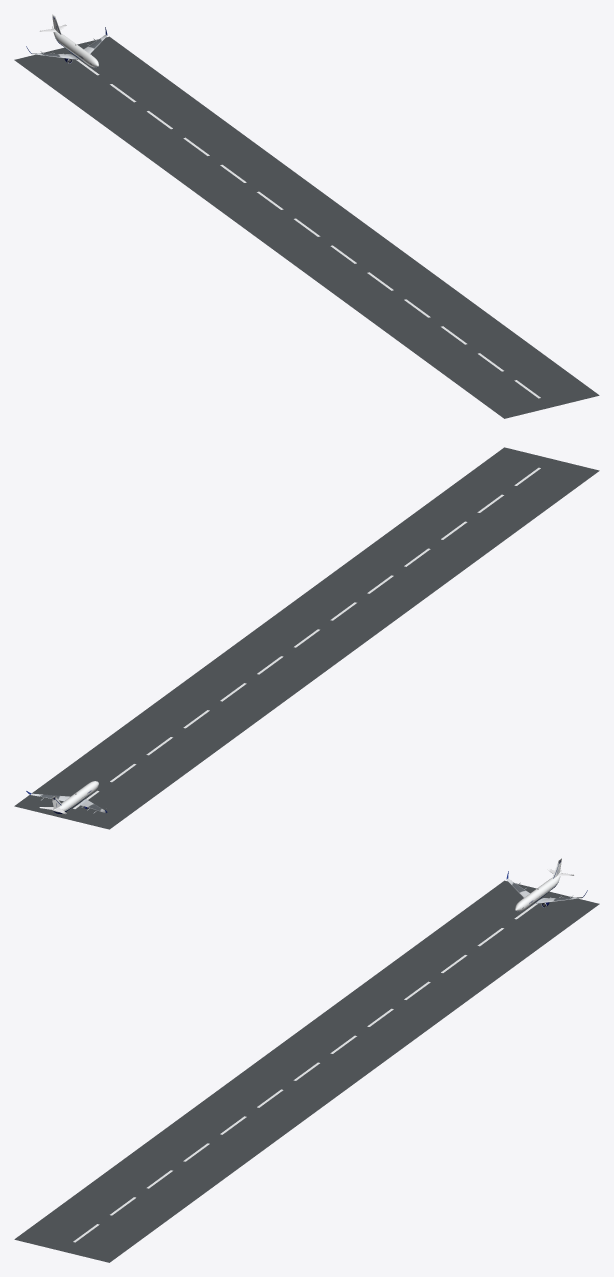
3 views of the same model, one above another, from view 1: azimuth 30°, elevation 25°; view 2: azimuth 150°, elevation 25°; view 3: azimuth 330°, elevation 25° (orthographic).
Visible parts, largest first — view 1: runway_tarmac, runway_centerline, fuselage; view 2: runway_tarmac, runway_centerline; view 3: runway_tarmac, runway_centerline, fuselage.
Boxes of the visible parts, x1=… form: runway_tarmac: x1=14, y1=36, x2=599, y2=418; runway_centerline: x1=76, y1=58, x2=540, y2=398; fuselage: x1=52, y1=27, x2=98, y2=67; runway_tarmac: x1=14, y1=447, x2=599, y2=829; runway_centerline: x1=73, y1=467, x2=540, y2=808; runway_tarmac: x1=14, y1=880, x2=599, y2=1262; runway_centerline: x1=73, y1=903, x2=537, y2=1242; fuselage: x1=515, y1=871, x2=561, y2=911.
Bounding box in the file's own units: 45 × 12.15 × 408.
12 materials, 4 textured.
